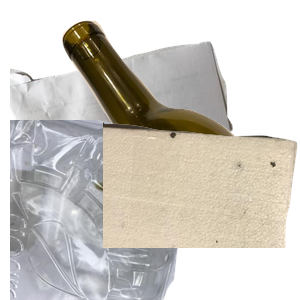glass: (60, 18, 300, 198)
paper: (10, 39, 236, 205)
plastic: (10, 120, 197, 300)
trash: (103, 120, 300, 300)
